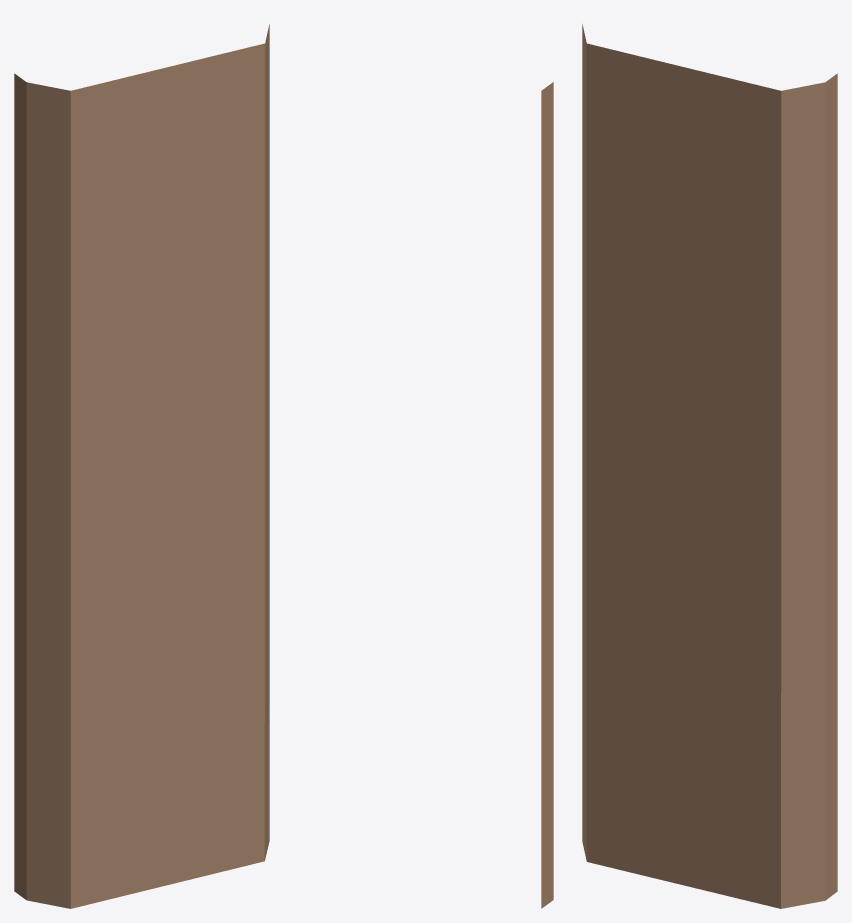
The model's file is env_block_brick_half_column_center.glb.
3 views of the same model, side by side, from view 1: azimuth 30°, elevation 25°; view 2: azimuth 150°, elevation 25°; view 3: azimuth 330°, elevation 25° (orthographic).
Parts seen in each view (by area): view 1: geometry_0; view 2: geometry_0; view 3: geometry_0.
Boxes of the visible parts, <box> form: geometry_0: <box>14,24,269,908</box>; geometry_0: <box>541,82,553,908</box>; geometry_0: <box>582,24,837,908</box>.
Size of the model in its own units: 0.9323 by 3 by 0.2132.
